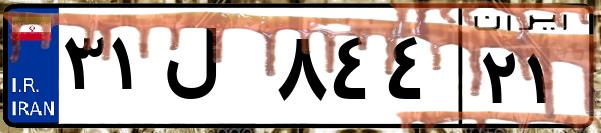1: (525, 38, 570, 115), (110, 28, 158, 98)
2: (475, 38, 525, 113)
3: (57, 26, 110, 100)
4: (385, 28, 445, 110), (330, 28, 385, 110)
8: (270, 28, 330, 110)
ل: (158, 20, 270, 120)
